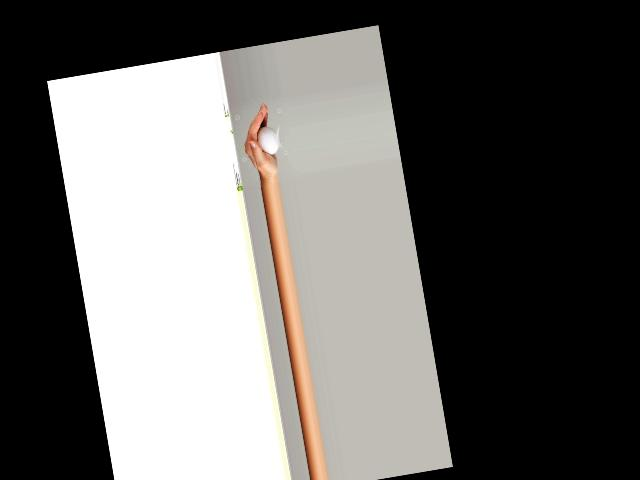egg: (255, 124, 279, 156)
